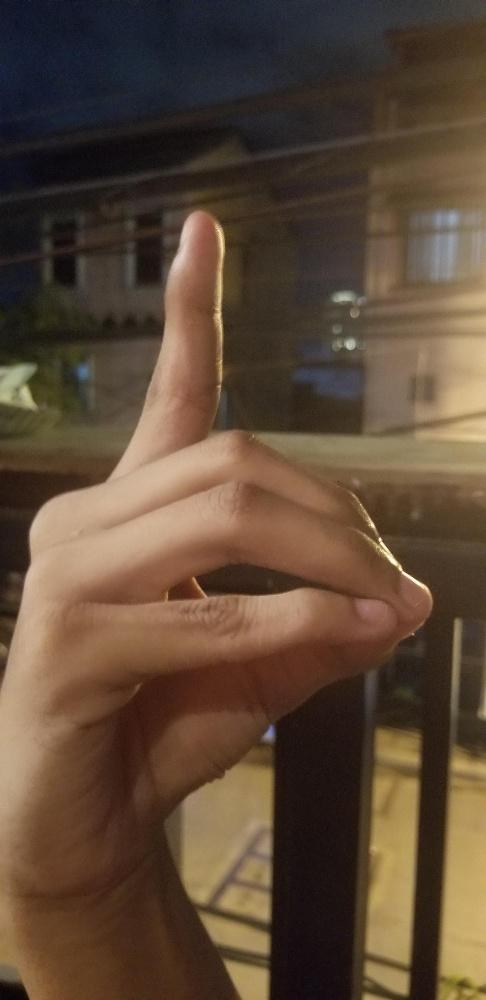d: (0, 205, 437, 885)
